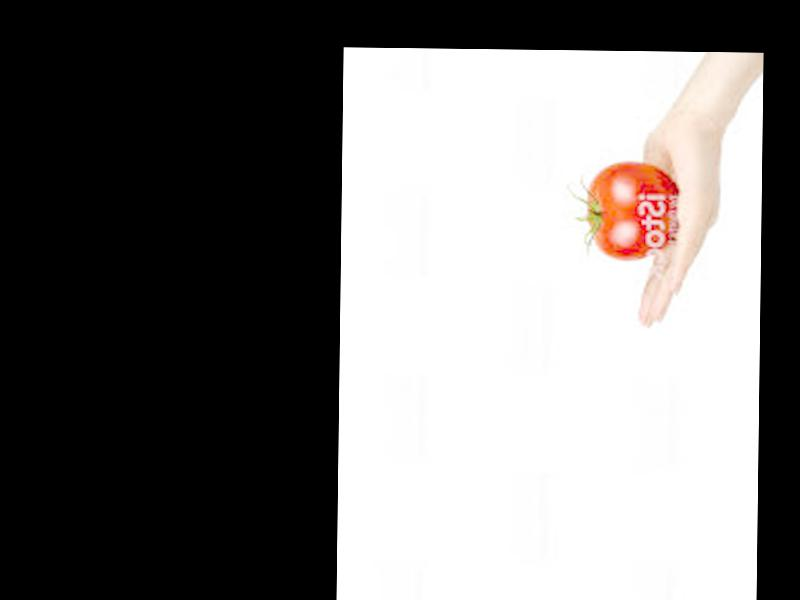Tomato: (584, 160, 677, 259)
